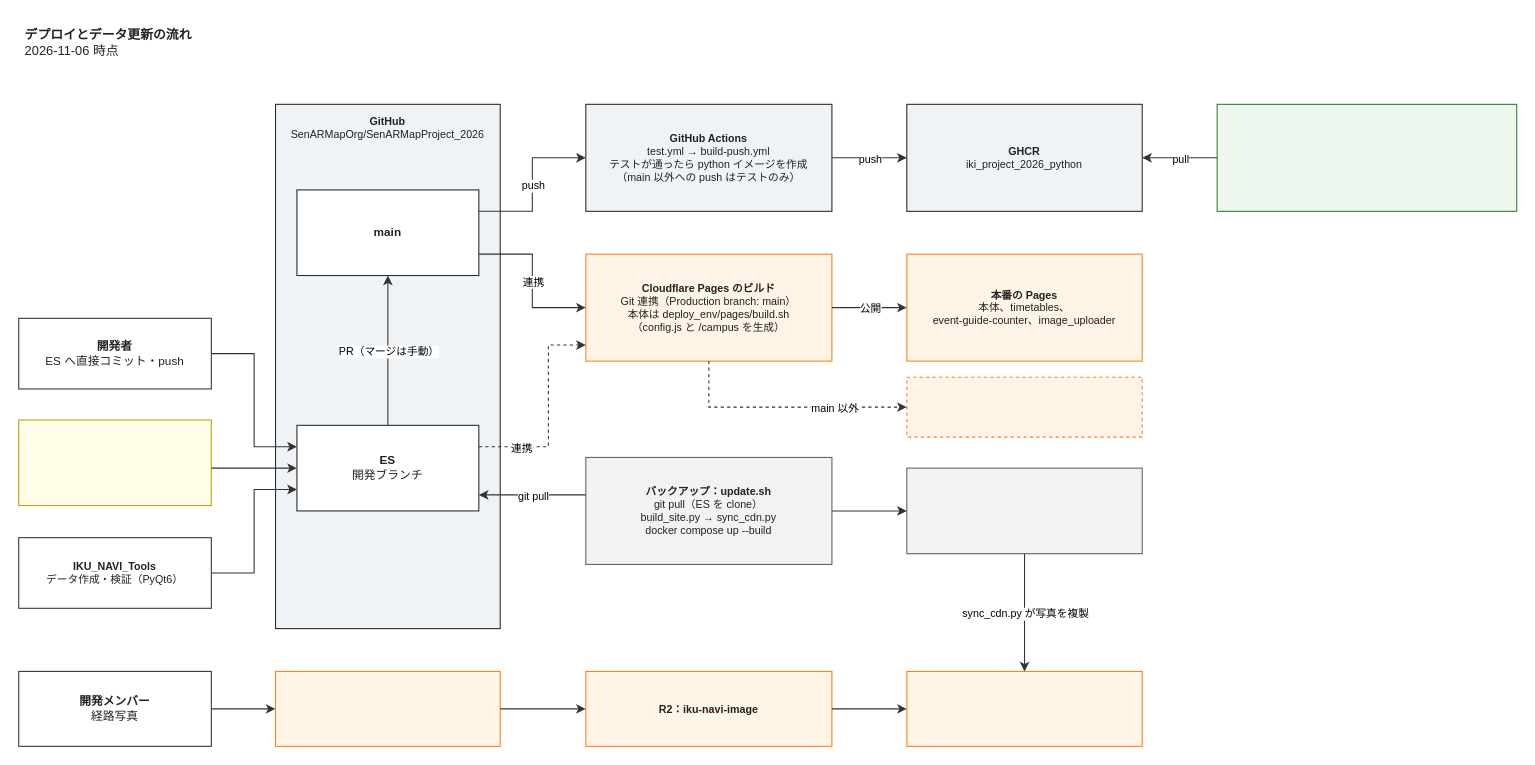
Image size: 1535x765. Some labels were removed from this diagram. The shapes that lost their labels are listed below. From the top down, each one's centre as x and y in pixels, then its label:
the point at 1366,157: 本番 Manager：~/update.sh cron で30分ごと：更新 → docker stack deploy
the point at 1024,406: プレビュー *.pages.dev（D1 は preview 用）
the point at 114,462: スプレッドシート スクリプトで data/ へ Push （鳳祭期間は CSV を直接編集）
the point at 1024,510: バックアップ環境 iku-navi.f5.si public/site、public/cdn、python
the point at 387,708: image_uploader 署名付き URL で直接 PUT
the point at 1024,708: cdn.iku-navi.net ブラウザへ配信
